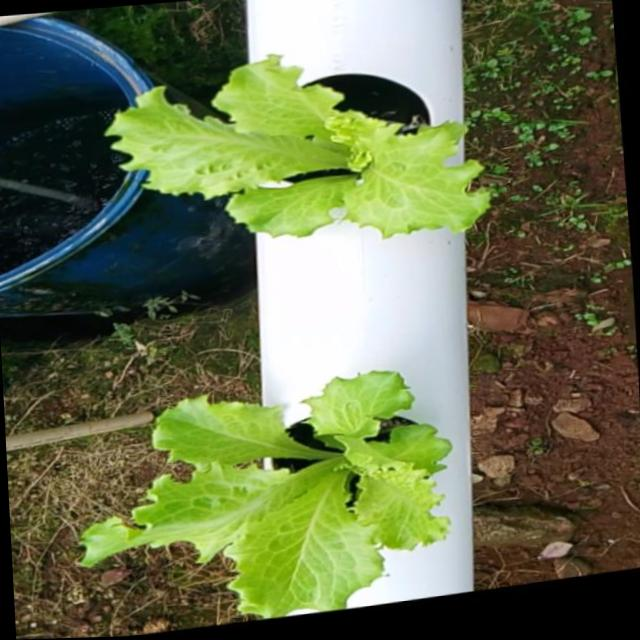Baby: (84, 372, 455, 619), (107, 50, 494, 233)
